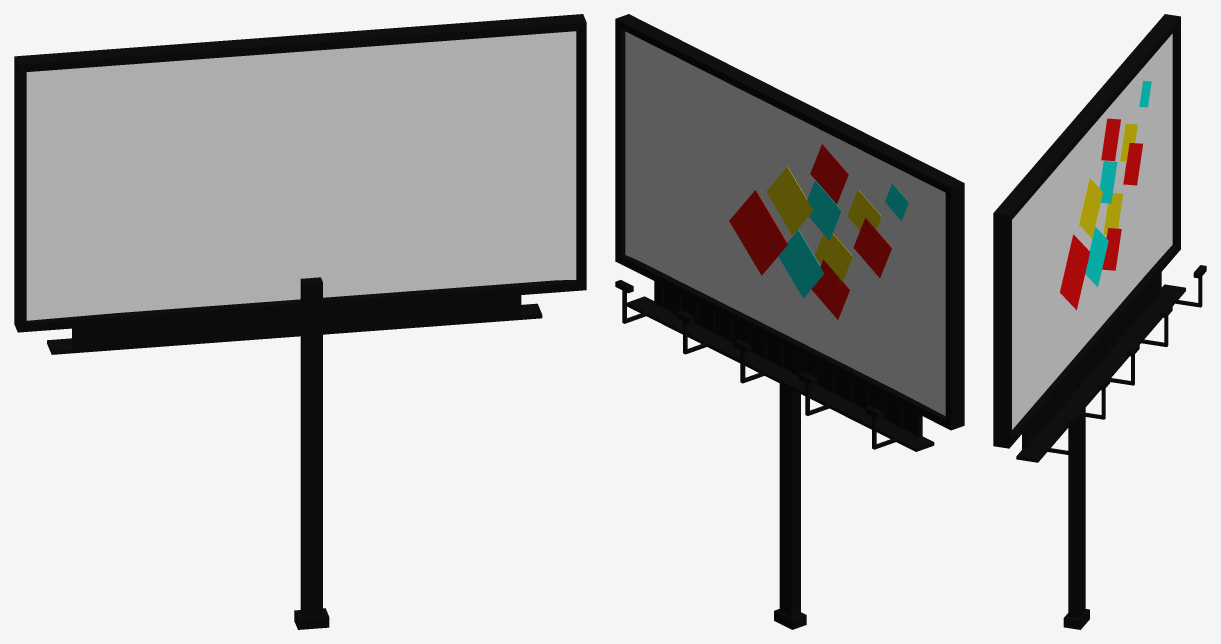
File: Billboard.obj
The picture shows the model from 3 angles, left to right: view 1: azimuth 30°, elevation 25°; view 2: azimuth 150°, elevation 25°; view 3: azimuth 270°, elevation 25°; orthographic projection. The views are drawn at different scales.
Visible parts, largest first — view 1: Object002, Box053, Box055, Box052, Box054; view 2: Object002, Box053, Box055, Box052, Box054, Box058, Box063, Box040, Box066, Box060, Box047, Box059 (+2 smaller); view 3: Object002, Box053, Box054, Box052, Box055, Box058, Box063, Box040, Box066, Box060, Box059, Box047 (+3 smaller).
Part boxes in pixels (<box>): Object002: <box>26,31,576,320</box>; Box053: <box>14,14,586,332</box>; Box055: <box>72,283,521,351</box>; Box052: <box>300,277,322,616</box>; Box054: <box>47,303,542,354</box>; Object002: <box>625,31,945,415</box>; Box053: <box>615,14,964,430</box>; Box055: <box>654,281,922,436</box>; Box052: <box>779,332,800,617</box>; Box054: <box>627,296,934,451</box>; Box058: <box>729,190,787,275</box>; Box063: <box>766,167,813,235</box>; Box040: <box>778,230,824,298</box>; Box066: <box>810,144,848,204</box>; Box060: <box>853,218,891,277</box>; Box047: <box>811,259,849,319</box>; Box059: <box>807,180,841,240</box>; Object002: <box>1012,33,1172,429</box>; Box053: <box>993,14,1180,448</box>; Box054: <box>1016,284,1185,462</box>; Box052: <box>1068,345,1085,617</box>; Box055: <box>1022,272,1161,449</box>; Box058: <box>1060,234,1090,309</box>; Box063: <box>1079,178,1102,238</box>; Box040: <box>1085,226,1108,287</box>; Box066: <box>1101,118,1120,161</box>; Box060: <box>1123,143,1142,185</box>; Box059: <box>1099,161,1117,203</box>; Box047: <box>1102,228,1121,270</box>.
Size of the model in its own units: 336246 by 393217 by 150342.
